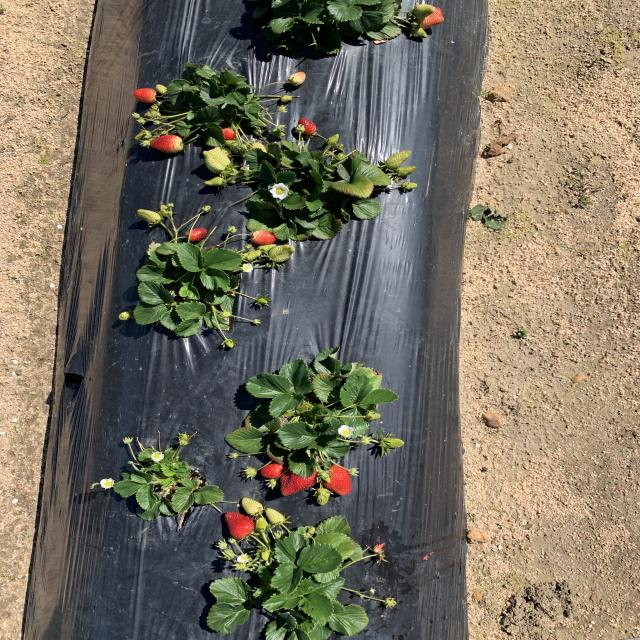unripe: (280, 462, 319, 497), (318, 463, 354, 497), (224, 511, 259, 538), (150, 136, 183, 152), (296, 116, 316, 137), (184, 227, 209, 242), (262, 462, 284, 478), (252, 230, 276, 244), (221, 128, 241, 143), (134, 89, 157, 102)
